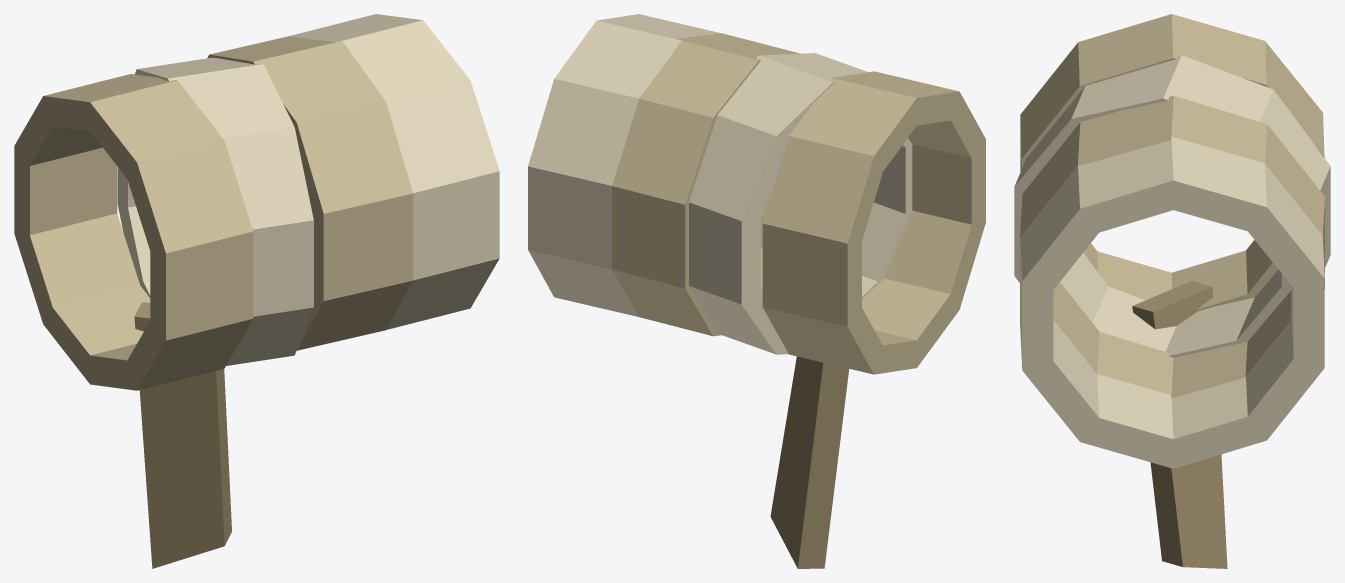
The model's file is mummy_arm_r.glb.
3 views of the same model, side by side, from view 1: azimuth 30°, elevation 25°; view 2: azimuth 150°, elevation 25°; view 3: azimuth 270°, elevation 25° (orthographic). The views are drawn at different scales.
Visible parts, largest first — view 1: mummy_arm_r; view 2: mummy_arm_r; view 3: mummy_arm_r.
Boxes of the visible parts, left/top/right/bottom form: mummy_arm_r: left=14, top=14, right=499, bottom=568; mummy_arm_r: left=528, top=14, right=985, bottom=568; mummy_arm_r: left=1014, top=14, right=1330, bottom=568.
Size of the model in its own units: 0.2685 by 0.3781 by 0.2127.
